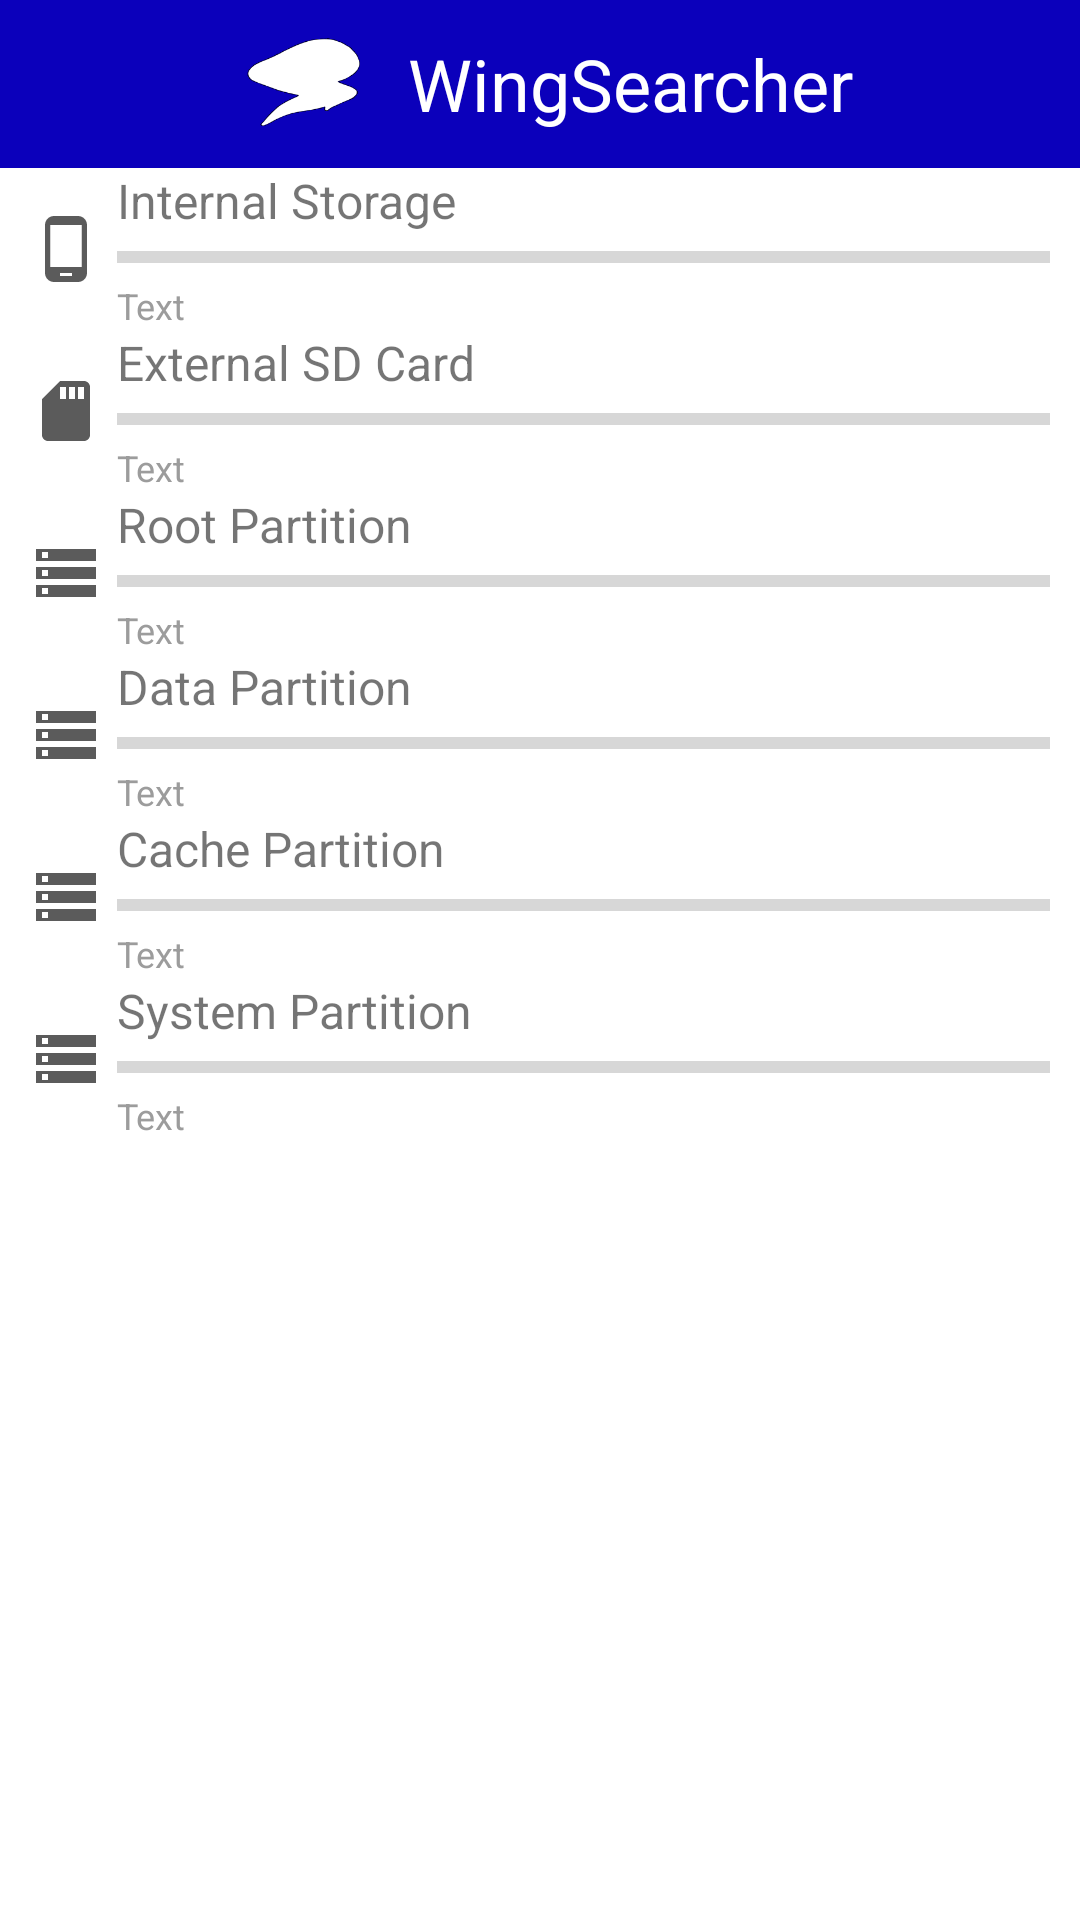

Where to tap for icons on this 1080 × 1920 app screen, as point (x, y):
storage partition external: point (66, 411)
storage partition internal: point (66, 249)
storage partitions: point (66, 573), point (66, 735), point (66, 897), point (66, 1059)
